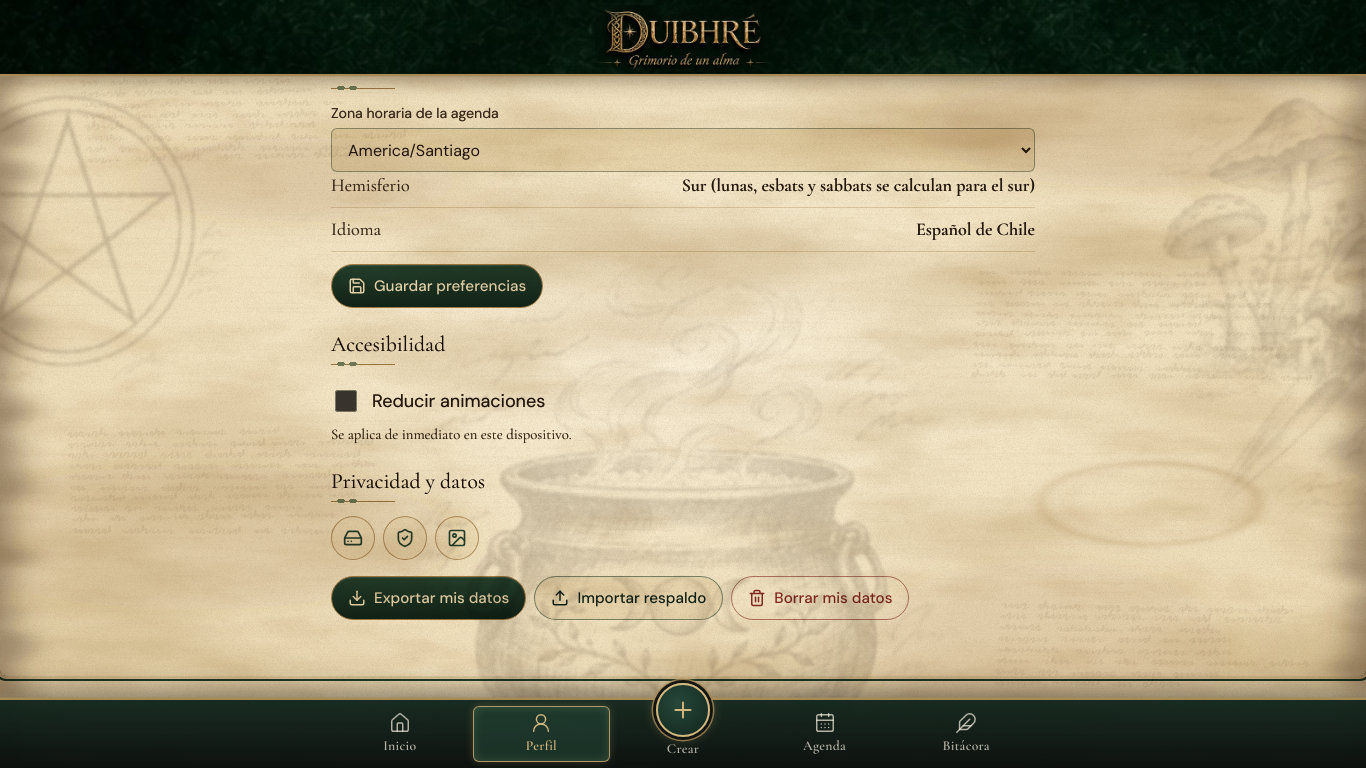
Test: respaldo › «Borrar mis datos» exige escribir BORRAR
This screenshot has width=1366, height=768.
(page scrolled)
Click the button "Borrar mis datos" at (820, 598), box [731,576,910,620]
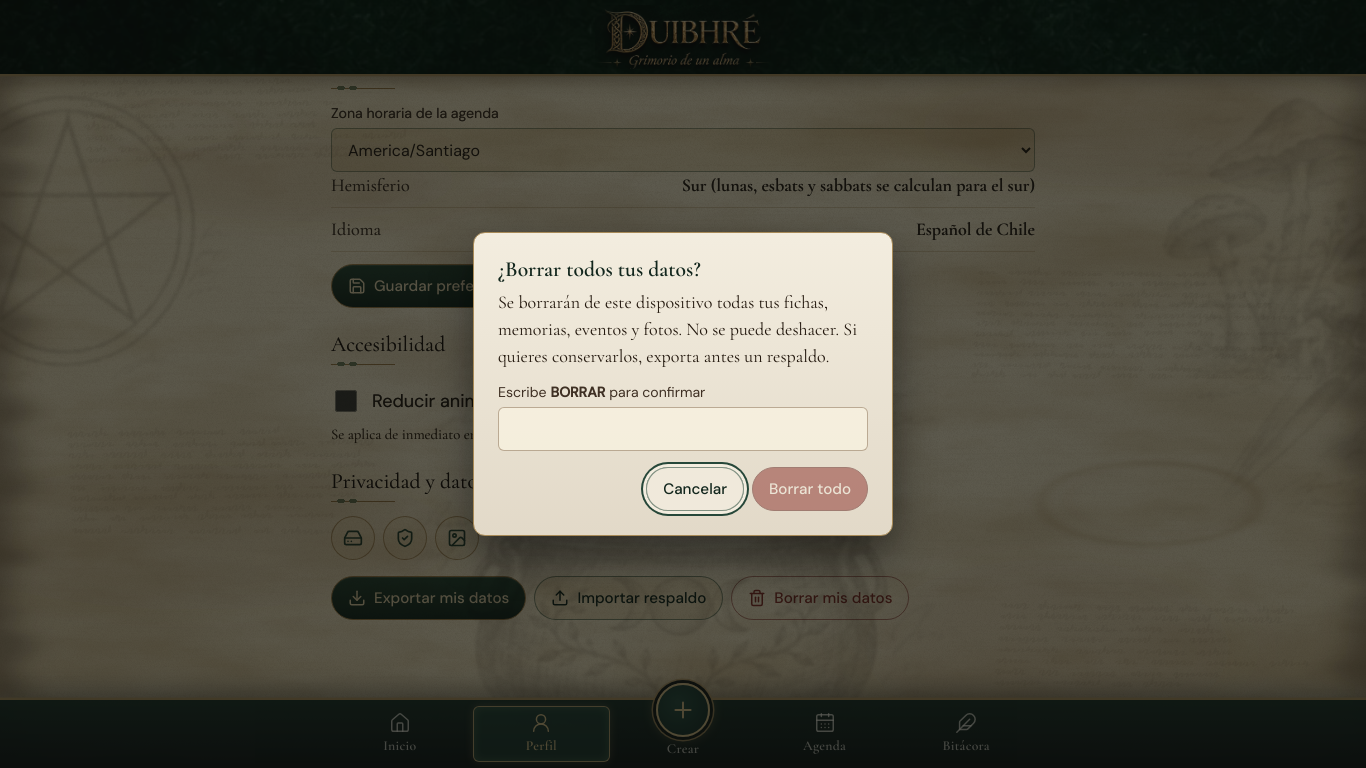
Expected: the button "Borrar todo" is disabled, [752,468,868,512]
Type "BORRAR" into the field at (683, 430), box [498,408,868,452]
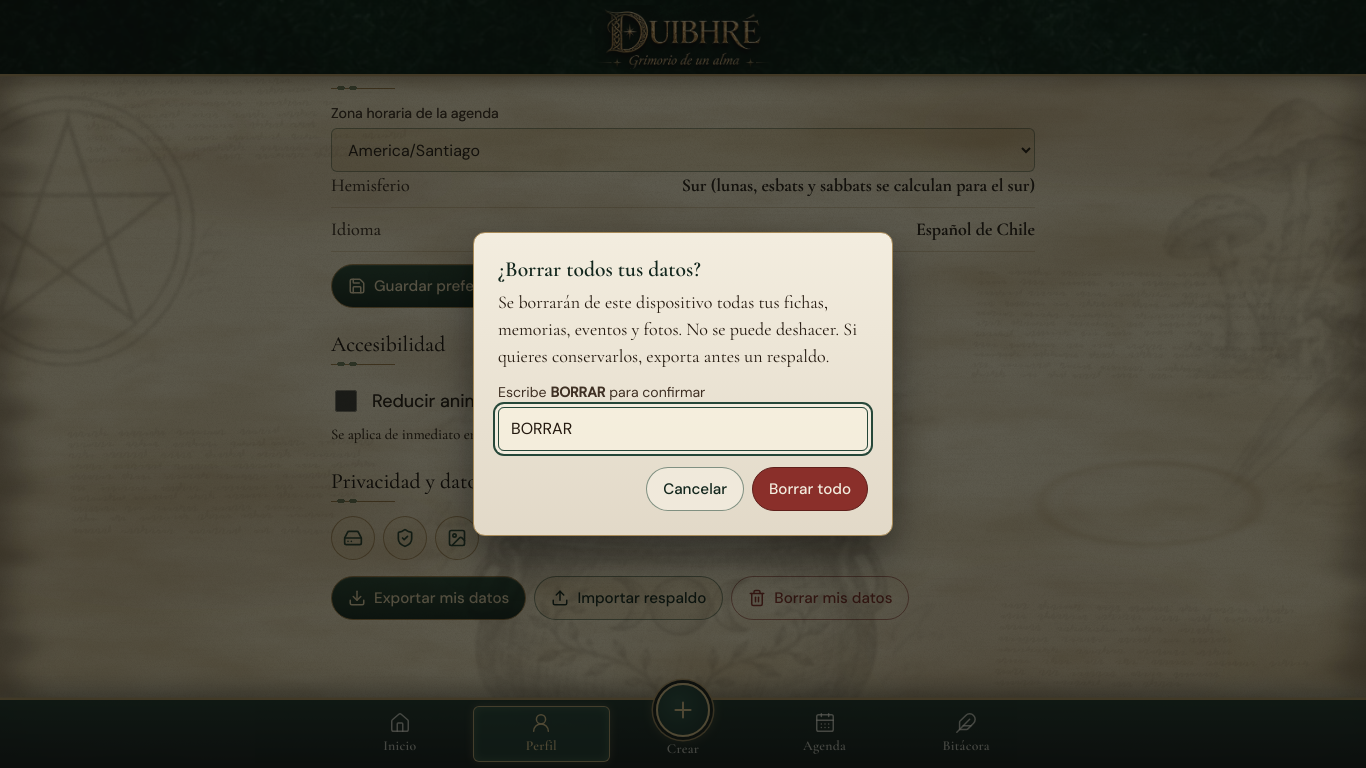
Expected: the button "Borrar todo" is enabled
Click the button "Borrar todo" at (810, 490), box [752,468,868,512]
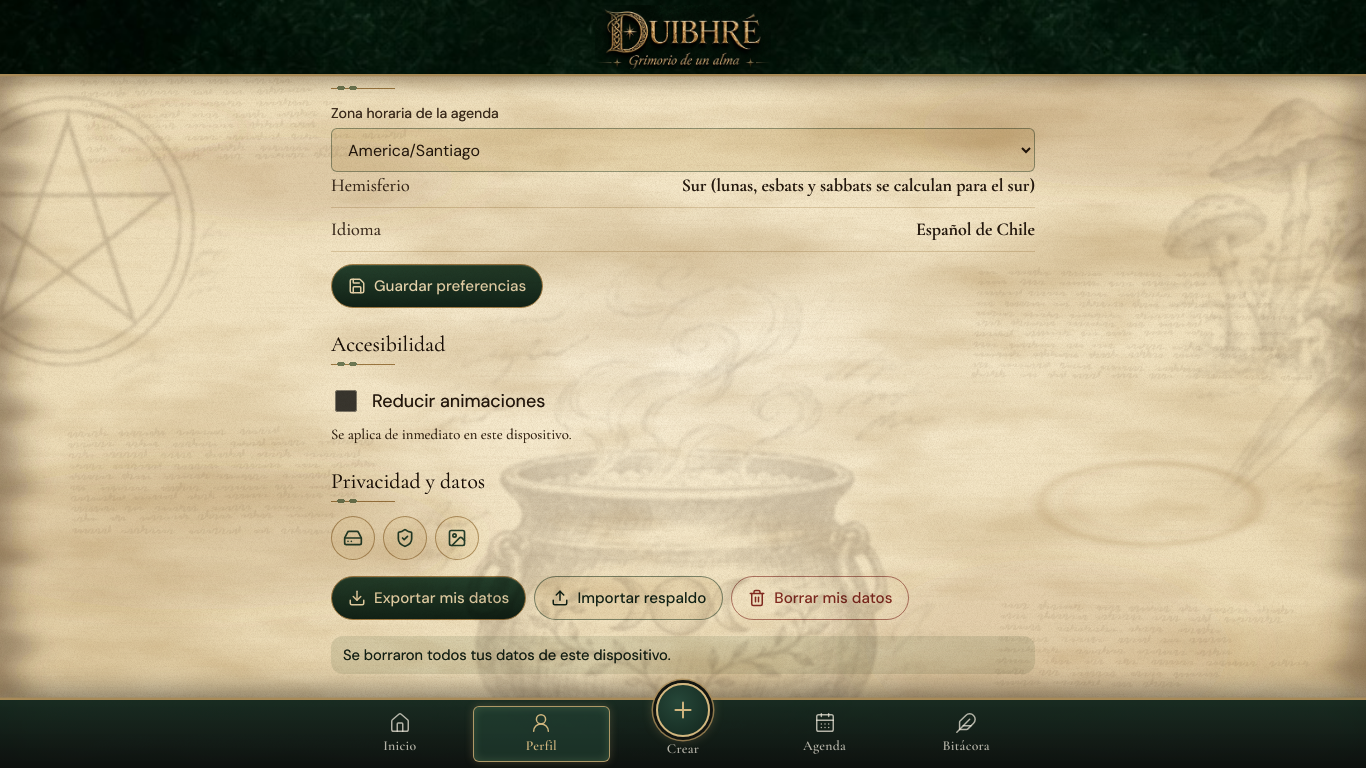
Expected: the text "Se borraron todos tus datos de este dispositivo." is shown, [331,636,1035,674]
